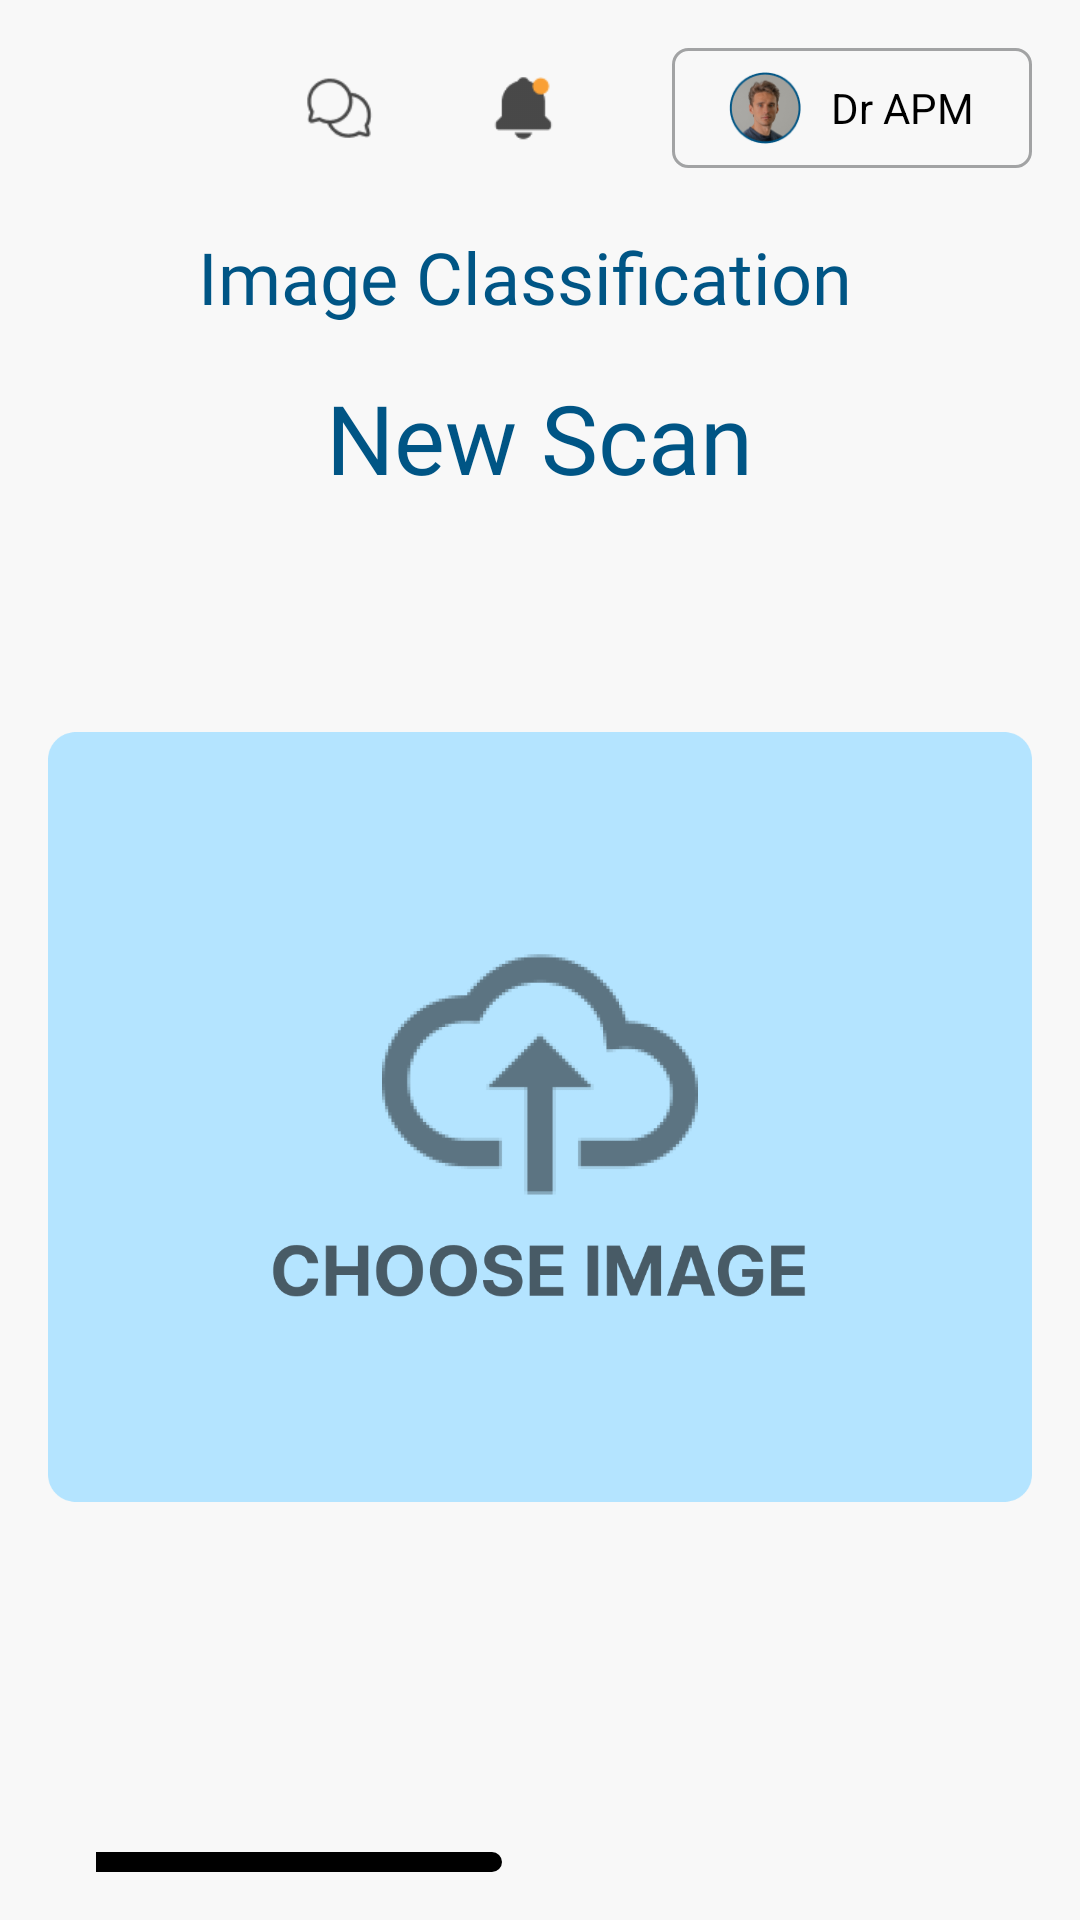

Point at icon controls on the screen. Image size 1080 × 1920, points as (x=x, y=y).
User Image: (x=765, y=108)
